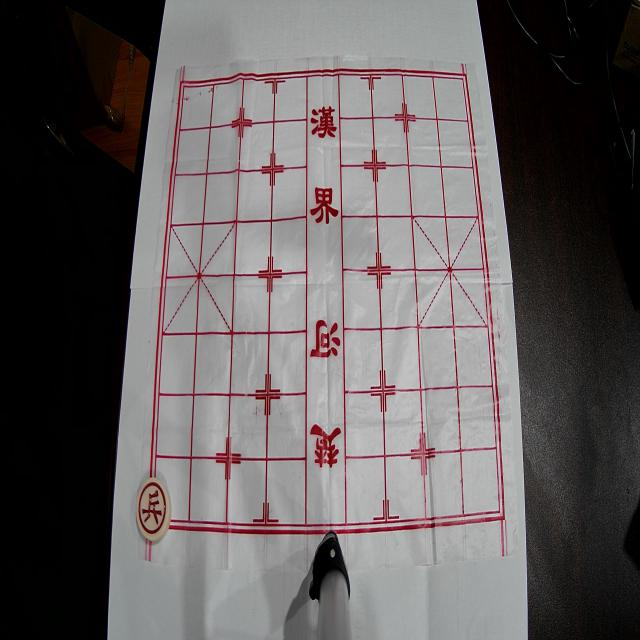red-soldier: (136, 478, 171, 542)
